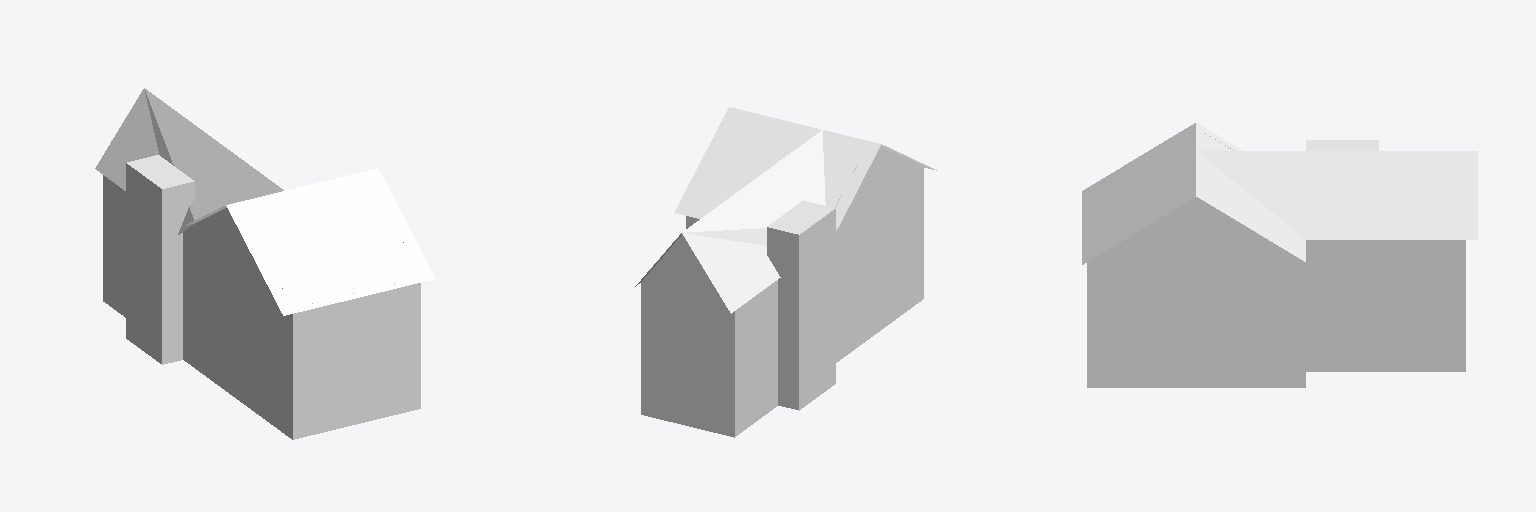
File: House.obj
3 renders of one model, left to right at view 1: azimuth 30°, elevation 25°; view 2: azimuth 150°, elevation 25°; view 3: azimuth 270°, elevation 25°, orthographic.
Parts seen in each view (by area): view 1: Mesh3_Atap1_Model.000; view 2: Mesh3_Atap1_Model.000; view 3: Mesh3_Atap1_Model.000.
Boxes of the visible parts, x1,y1,x2,y2 form: Mesh3_Atap1_Model.000: [95, 88, 435, 439]; Mesh3_Atap1_Model.000: [635, 107, 936, 437]; Mesh3_Atap1_Model.000: [1082, 122, 1477, 387].
Bounding box in the file's own units: 1.84 × 2.15 × 3.91.